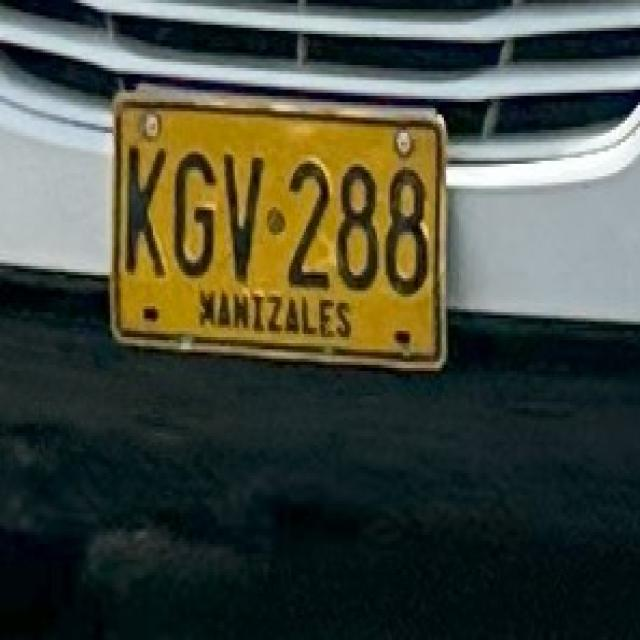number plate: (108, 87, 442, 365)
